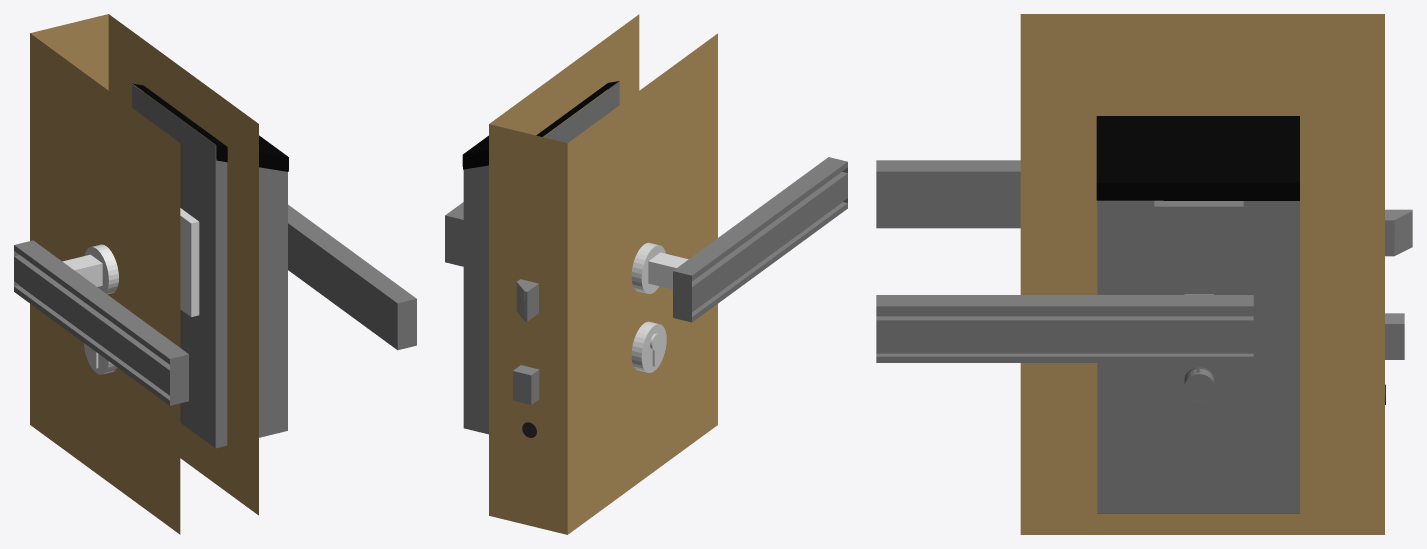
File: smartlock.glb
3 views of the same model, side by side, from view 1: azimuth 30°, elevation 25°; view 2: azimuth 150°, elevation 25°; view 3: azimuth 270°, elevation 25° (orthographic). The views are drawn at different scales.
Parts seen in each view (by area): view 1: Cube.006, Cube, Cube.008, Cube.003, Cube.005, Cube.001, Cylinder.001, Cube.009; view 2: Cube.006, Cube.008, Cube, Cylinder.002, Cube.001, Cube.003, Cylinder.001, Cube.004, Cube.009, Cube.007; view 3: Cube.006, Cube, Cube.003, Cube.001, Cube.008, Cube.007, Cube.004.
Part boxes in pixels (<box>): Cube.006: <box>30,14,258,534</box>; Cube: <box>132,84,287,448</box>; Cube.008: <box>14,240,188,405</box>; Cube.003: <box>288,204,416,350</box>; Cube.005: <box>180,208,199,316</box>; Cube.001: <box>132,83,288,171</box>; Cylinder.001: <box>84,244,118,294</box>; Cube.009: <box>62,254,102,286</box>; Cube.006: <box>489,14,717,534</box>; Cube.008: <box>673,157,847,322</box>; Cube: <box>463,81,619,434</box>; Cylinder.002: <box>631,321,666,372</box>; Cube.001: <box>462,81,619,169</box>; Cube.003: <box>445,202,463,266</box>; Cylinder.001: <box>631,242,665,294</box>; Cube.004: <box>513,365,539,404</box>; Cube.009: <box>648,252,688,289</box>; Cube.007: <box>516,279,538,321</box>; Cube.006: <box>1020,14,1384,534</box>; Cube: <box>1097,200,1299,513</box>; Cube.003: <box>876,295,1253,362</box>; Cube.001: <box>1096,116,1299,200</box>; Cube.008: <box>876,160,1020,228</box>; Cube.007: <box>1385,209,1412,256</box>; Cube.004: <box>1385,313,1404,359</box>.
Size of the model in its own units: 3.41 by 5.17 by 5.3.
